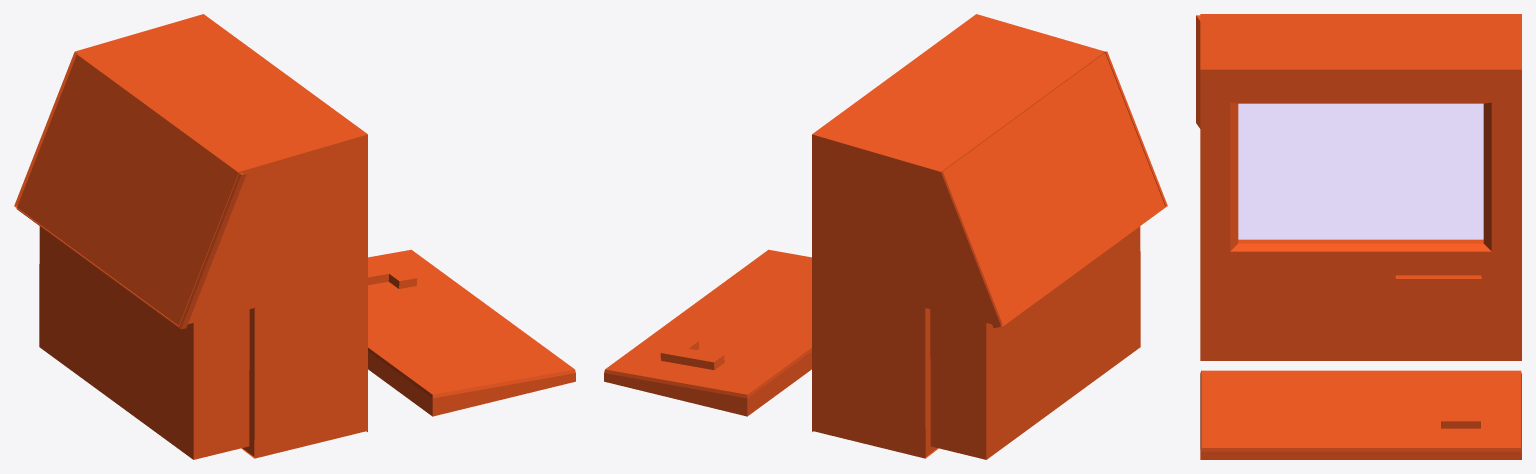
Rendered from demo_nights.glb.
3 views of the same model, side by side, from view 1: azimuth 30°, elevation 25°; view 2: azimuth 150°, elevation 25°; view 3: azimuth 270°, elevation 25° (orthographic). The views are drawn at different scales.
Parts seen in each view (by area): view 1: Cube, Keyboard; view 2: Cube, Keyboard; view 3: Cube, Keyboard.
Boxes of the visible parts, x1=… form: Cube: x1=14, y1=14, x2=367, y2=459; Keyboard: x1=368, y1=249, x2=575, y2=416; Cube: x1=812, y1=14, x2=1167, y2=459; Keyboard: x1=604, y1=249, x2=811, y2=416; Cube: x1=1196, y1=14, x2=1521, y2=360; Keyboard: x1=1200, y1=370, x2=1521, y2=459.
Bounding box in the file's own units: 0.1472 × 0.1055 × 0.1069.
